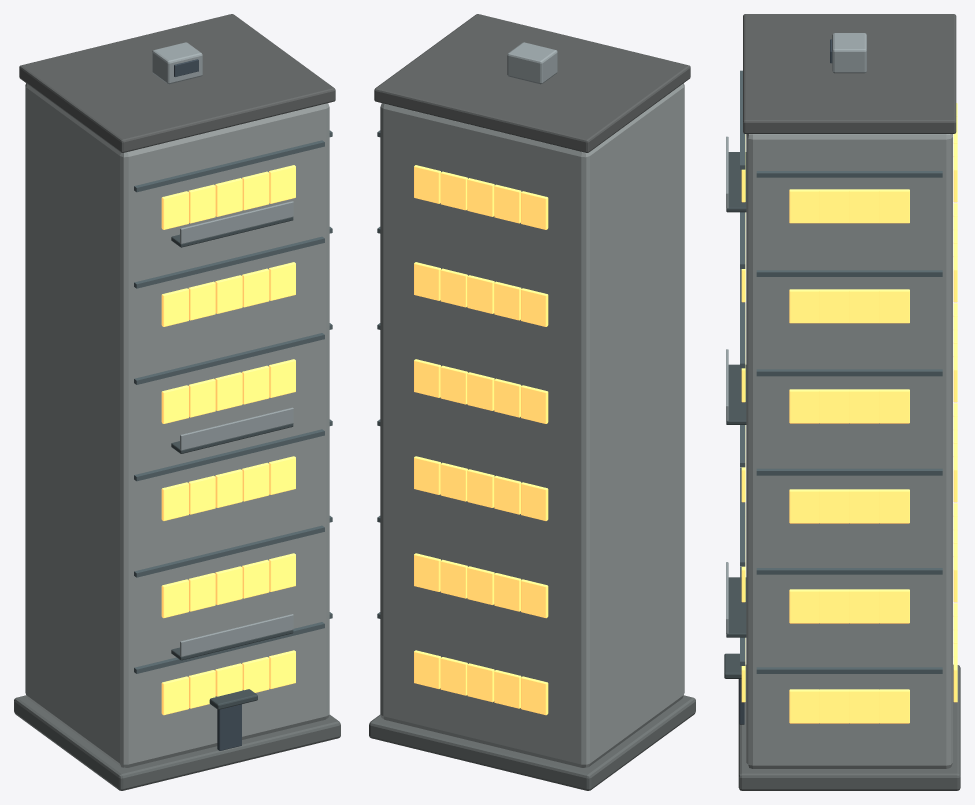
Rendered from residential_apartment_balcony.glb.
The picture shows the model from 3 angles, left to right: view 1: azimuth 30°, elevation 25°; view 2: azimuth 150°, elevation 25°; view 3: azimuth 270°, elevation 25°; orthographic projection. The views are drawn at different scales.
Visible parts, largest first — view 1: main_massing, roof_slab, foundation, balcony_rail.001, balcony_rail.002, balcony_rail, facade_band_front.003, facade_band_front.002, facade_band_front.005, facade_band_front.001, facade_band_front.004, hvac_unit (+33 smaller); view 2: main_massing, roof_slab, foundation, hvac_unit, rear_window.013, rear_window.017, rear_window.022, rear_window.005, rear_window.008, rear_window.018, rear_window.028, rear_window (+22 smaller); view 3: main_massing, roof_slab, foundation, facade_band_side.002, facade_band_side.003, hvac_unit, facade_band_side, facade_band_side.001, facade_band_side.004, facade_band_side.005, balcony_slab, side_window (+28 smaller).
Boxes of the visible parts, bbox=[...] form: main_massing: bbox=[25, 83, 329, 767]; roof_slab: bbox=[19, 14, 335, 152]; foundation: bbox=[14, 695, 340, 790]; balcony_rail.001: bbox=[180, 407, 293, 450]; balcony_rail.002: bbox=[180, 201, 293, 243]; balcony_rail: bbox=[180, 614, 293, 656]; facade_band_front.003: bbox=[134, 333, 324, 384]; facade_band_front.002: bbox=[134, 429, 324, 481]; facade_band_front.005: bbox=[134, 140, 324, 192]; facade_band_front.001: bbox=[134, 525, 324, 577]; facade_band_front.004: bbox=[134, 236, 324, 288]; hvac_unit: bbox=[152, 42, 202, 84]; main_massing: bbox=[380, 83, 684, 767]; roof_slab: bbox=[374, 14, 690, 152]; foundation: bbox=[369, 695, 695, 790]; hvac_unit: bbox=[507, 42, 557, 84]; rear_window.013: bbox=[440, 462, 467, 501]; rear_window.017: bbox=[467, 372, 494, 410]; rear_window.022: bbox=[467, 275, 494, 313]; rear_window.005: bbox=[521, 579, 548, 618]; rear_window.008: bbox=[440, 559, 467, 598]; rear_window.018: bbox=[440, 365, 467, 404]; rear_window.028: bbox=[440, 171, 467, 210]; rear_window: bbox=[521, 676, 548, 715]; main_massing: bbox=[746, 134, 952, 768]; roof_slab: bbox=[743, 14, 956, 133]; foundation: bbox=[738, 664, 960, 790]; facade_band_side.002: bbox=[756, 468, 942, 475]; facade_band_side.003: bbox=[756, 369, 942, 376]; hvac_unit: bbox=[832, 33, 866, 73]; facade_band_side: bbox=[756, 667, 942, 673]; facade_band_side.001: bbox=[756, 568, 942, 574]; facade_band_side.004: bbox=[756, 270, 942, 276]; facade_band_side.005: bbox=[756, 171, 942, 177]; balcony_slab: bbox=[726, 577, 746, 637]; side_window: bbox=[879, 689, 909, 723].
Bounding box in the file's own units: 1.38 × 4.01 × 1.24.
